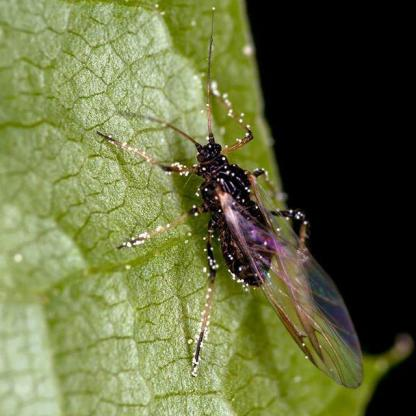aphid: (136, 52, 367, 398)
